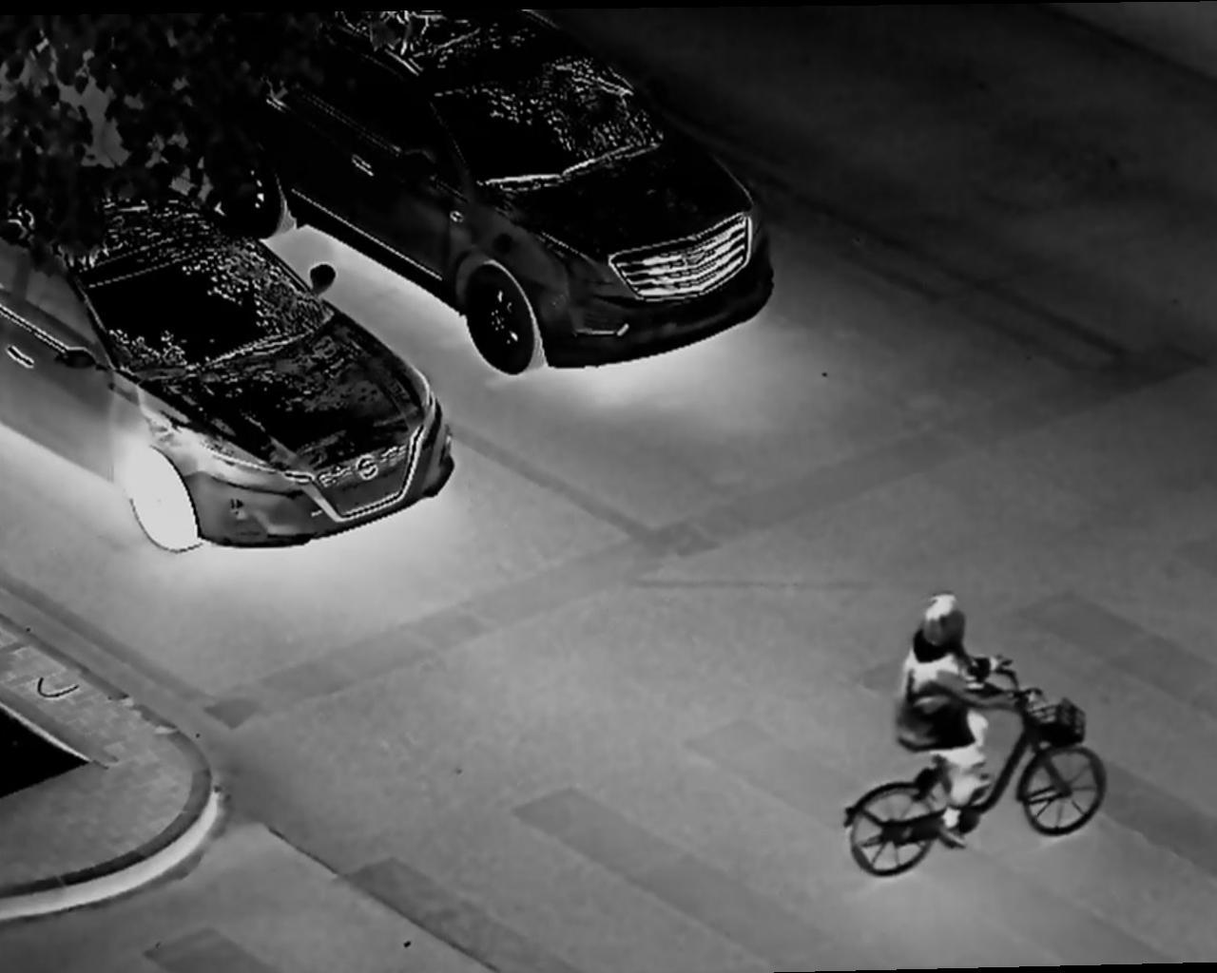person: (883, 582, 1044, 830)
